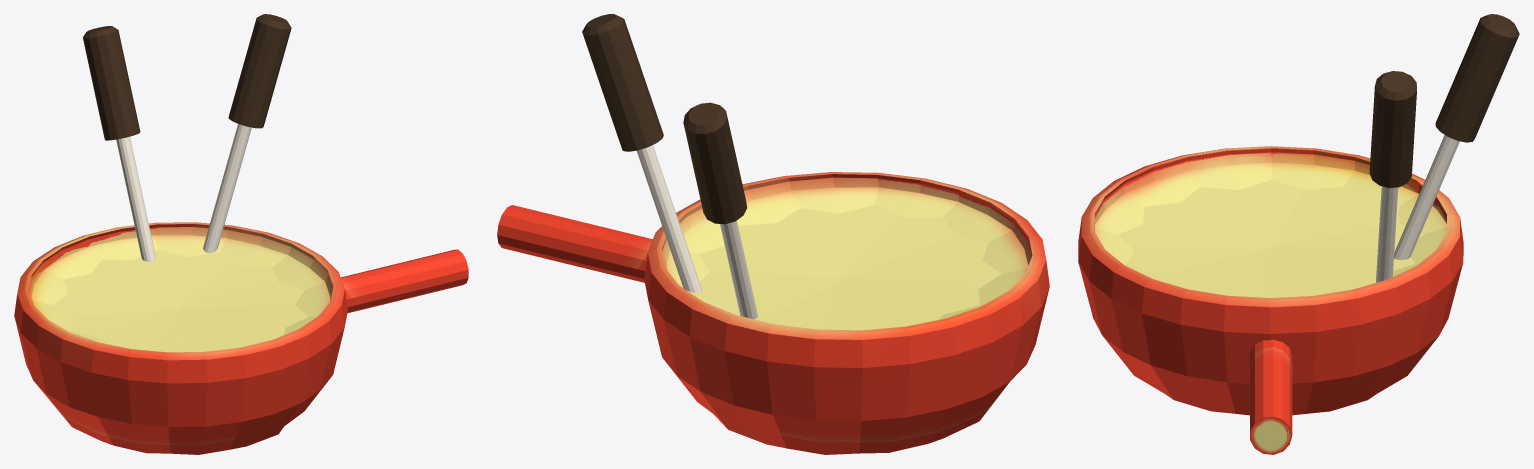
The model's file is fondue.fbx.
3 views of the same model, side by side, from view 1: azimuth 30°, elevation 25°; view 2: azimuth 150°, elevation 25°; view 3: azimuth 270°, elevation 25° (orthographic). The views are drawn at different scales.
Parts seen in each view (by area): view 1: Cube, Cylinder, Cylinder.001; view 2: Cube, Cylinder, Cylinder.001; view 3: Cube, Cylinder.001, Cylinder.
Part boxes in pixels (x1,y1,x2,y2): Cube: (14, 222, 468, 454); Cylinder: (203, 14, 291, 253); Cylinder.001: (83, 26, 155, 261); Cube: (497, 172, 1049, 454); Cylinder: (582, 14, 702, 292); Cylinder.001: (683, 102, 757, 319); Cube: (1078, 146, 1463, 454); Cylinder.001: (1394, 14, 1519, 259); Cylinder: (1369, 71, 1416, 282).
Size of the model in its own units: 26.56 by 20.51 by 20.65.
2 materials, 2 textured.
